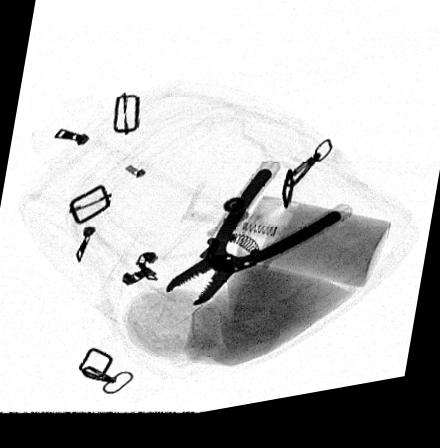Pliers: (164, 178, 343, 312)
